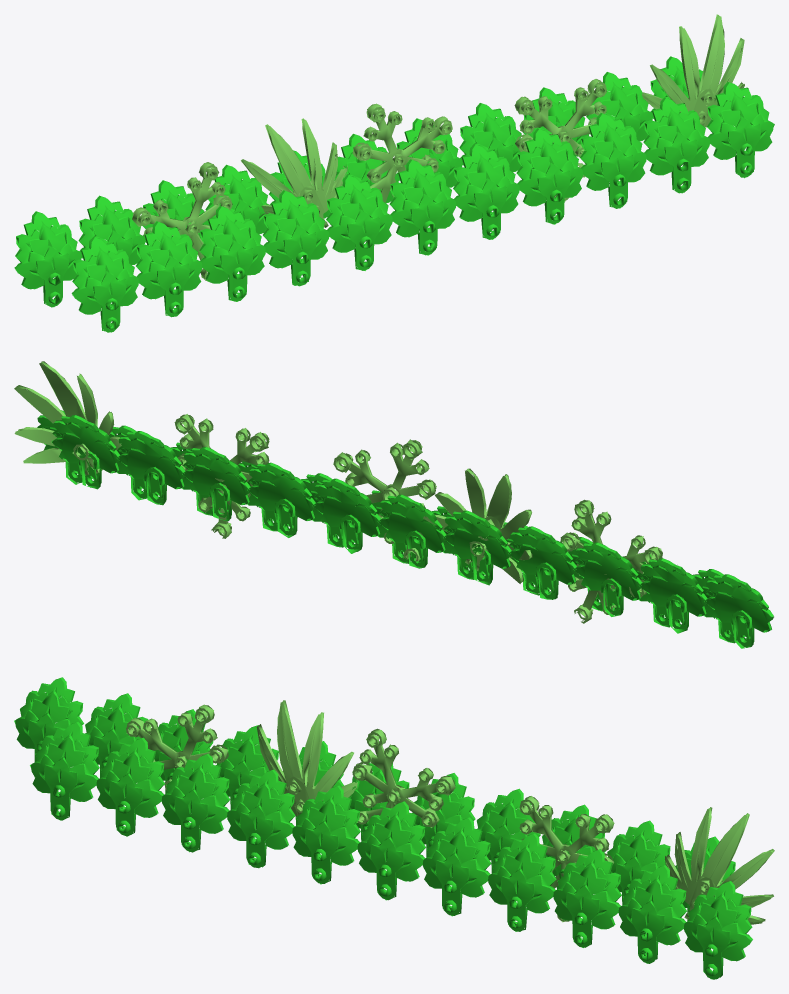
Rendered from Bushes.dae.
The picture shows the model from 3 angles, top to bottom: view 1: azimuth 30°, elevation 25°; view 2: azimuth 150°, elevation 25°; view 3: azimuth 330°, elevation 25°; orthographic projection. The views are drawn at different scales.
Parts seen in each view (by area): view 1: Part.1; view 2: Part.1; view 3: Part.1.
Part boxes in pixels (x1,y1,x2,y2): Part.1: (14,14,774,332); Part.1: (14,361,773,648); Part.1: (14,677,774,979).
Bounding box in the file's own units: 0.3259 × 0.0319 × 0.0598.
